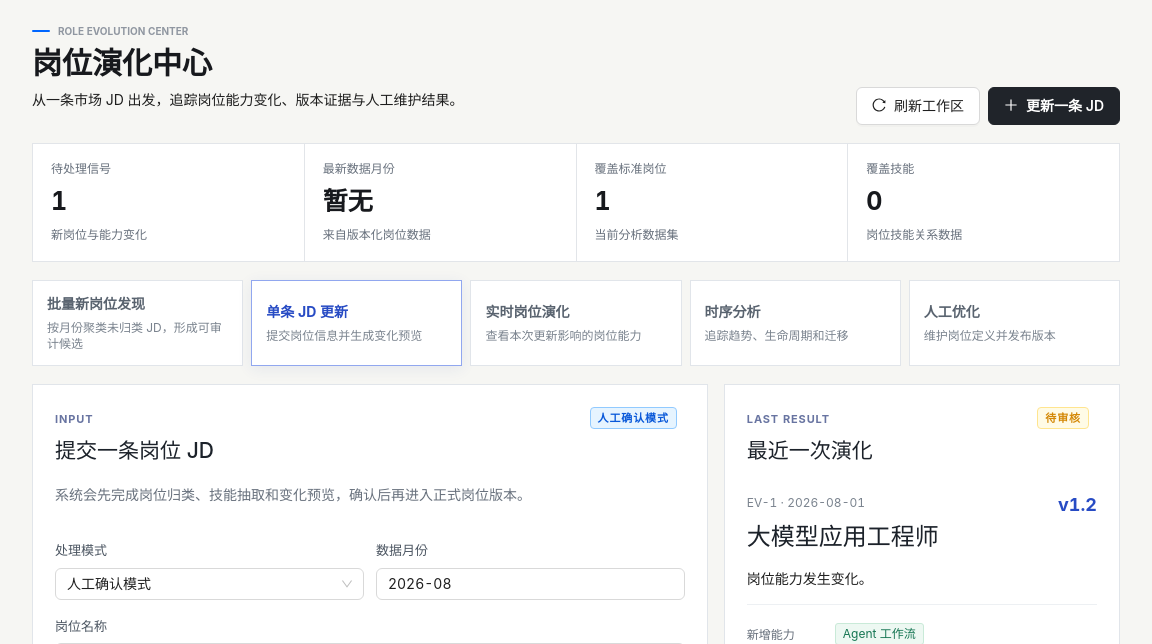
Test case: RoleEvolutionCenterPage › switches from JD input to the analytics view without losing context
Check: the heading "提交一条岗位 JD" is shown, box [55,434,214,467]
What coordinates should you click on to do the following:
click the button "时序分析 追踪趋势、生命周期和迁移"
I would click on:
 (795, 323)
Its box is [690,280,901,366].
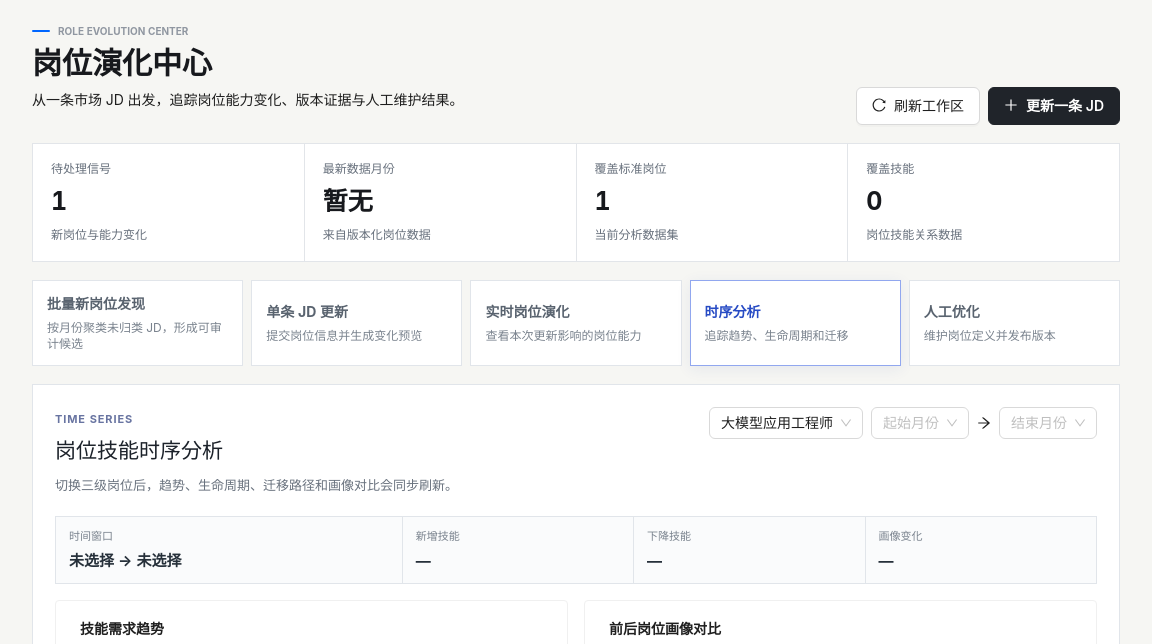
Check: the heading "岗位技能时序分析" is shown, box [55,438,223,463]
Check: the text "大模型应用工程师" is shown, box [721,414,833,431]
